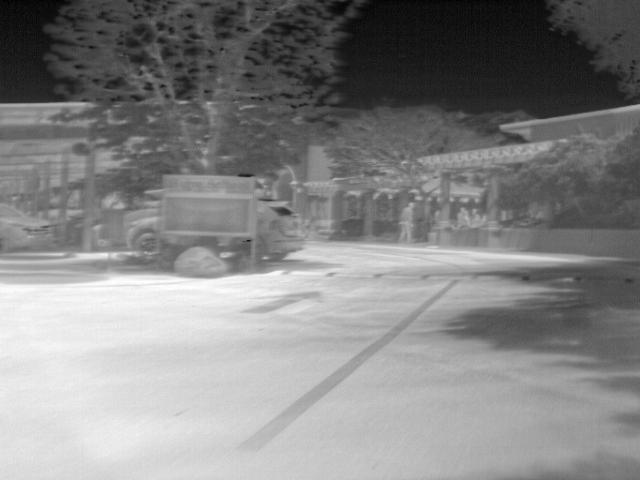car: (257, 198, 304, 262), (0, 202, 56, 252), (127, 211, 161, 257)
person: (398, 200, 414, 241), (456, 205, 470, 223), (467, 207, 480, 222)
